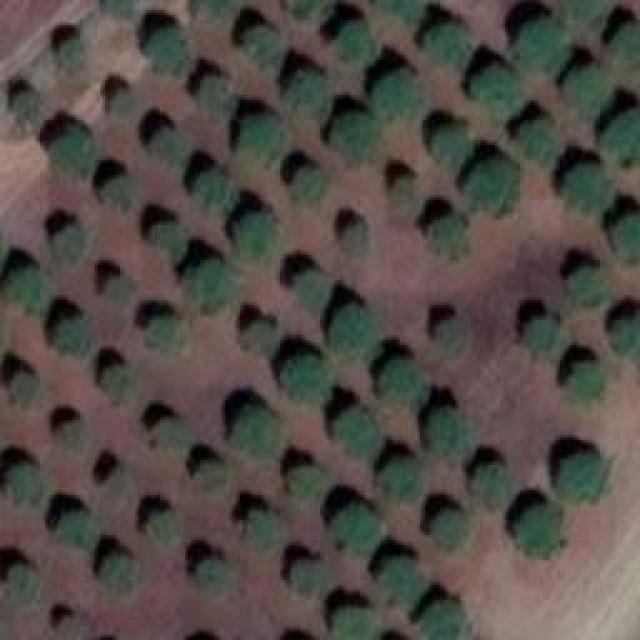Tree: (460, 155, 515, 213), (518, 20, 568, 75), (185, 255, 235, 310), (370, 67, 425, 115), (563, 70, 616, 118), (472, 65, 520, 118), (562, 450, 610, 500), (322, 307, 370, 355), (517, 505, 565, 553), (425, 20, 475, 65), (240, 115, 285, 165), (5, 265, 50, 315), (330, 110, 375, 158), (277, 355, 325, 400), (602, 108, 640, 163), (235, 212, 278, 260), (425, 407, 468, 455), (233, 410, 278, 455), (330, 18, 373, 63), (380, 358, 423, 403), (333, 508, 378, 551), (420, 600, 468, 640), (568, 168, 611, 211), (145, 318, 188, 361), (383, 555, 426, 598), (55, 510, 100, 550), (333, 408, 373, 453), (520, 118, 560, 161), (145, 28, 185, 71), (240, 508, 278, 553), (522, 315, 560, 358), (197, 75, 235, 118), (290, 165, 328, 208), (7, 463, 45, 506), (563, 360, 603, 400), (288, 73, 328, 113), (380, 455, 415, 500), (563, 267, 603, 305), (337, 220, 375, 260), (290, 270, 328, 310), (238, 317, 278, 355), (58, 130, 93, 173), (8, 565, 43, 608), (430, 508, 465, 551), (102, 172, 140, 210), (52, 420, 90, 458), (470, 462, 508, 500), (245, 25, 280, 65), (433, 125, 468, 165), (285, 555, 325, 590), (562, 0, 610, 28), (195, 167, 230, 205), (433, 215, 468, 253), (52, 318, 90, 353), (100, 555, 135, 593), (338, 602, 373, 640), (607, 315, 640, 355), (150, 125, 183, 163), (145, 223, 183, 256), (103, 365, 136, 403), (192, 558, 230, 591), (155, 418, 190, 453), (190, 460, 225, 495), (610, 25, 640, 63), (148, 510, 178, 548), (98, 470, 131, 503), (55, 225, 85, 260), (617, 214, 640, 257), (7, 370, 35, 405), (10, 90, 38, 123), (108, 90, 138, 120), (103, 278, 133, 308), (288, 470, 318, 500), (387, 175, 415, 205), (60, 37, 88, 65), (197, 0, 235, 20), (280, 0, 323, 15), (378, 0, 421, 15), (105, 0, 135, 18), (62, 617, 79, 640)
